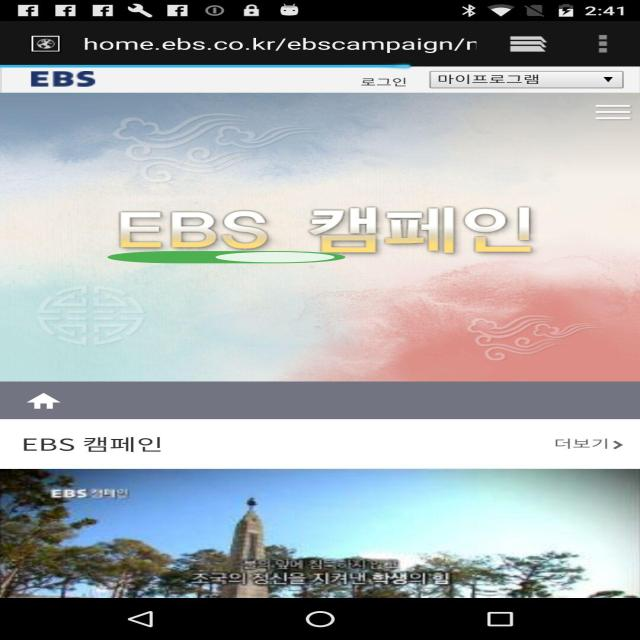social proof: (97, 246, 356, 269)
